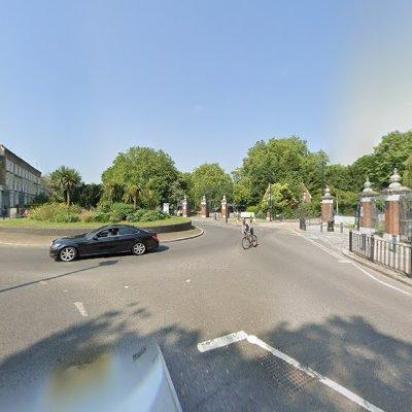moving-bicycle: (239, 216, 258, 250)
moving-car: (48, 225, 158, 260)
